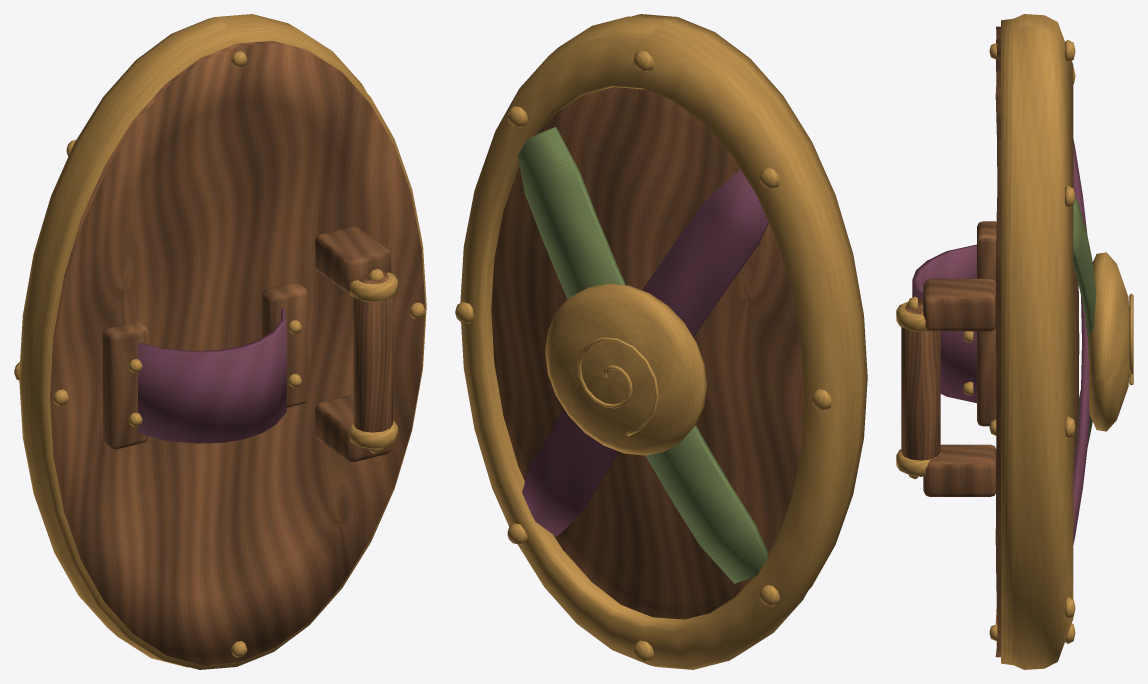
File: ribbon-shield.glb
3 views of the same model, side by side, from view 1: azimuth 30°, elevation 25°; view 2: azimuth 150°, elevation 25°; view 3: azimuth 270°, elevation 25° (orthographic).
Visible parts, largest first — view 1: ribbon-shield_grip; view 2: ribbon-shield_grip; view 3: ribbon-shield_grip.
Part boxes in pixels (x1,y1,x2,y2): ribbon-shield_grip: (14, 14, 426, 669); ribbon-shield_grip: (455, 14, 867, 669); ribbon-shield_grip: (896, 14, 1133, 669).
Bounding box in the file's own units: 0.3034 × 0.48 × 0.1633.
Materials: 4 (4 with a texture image).
